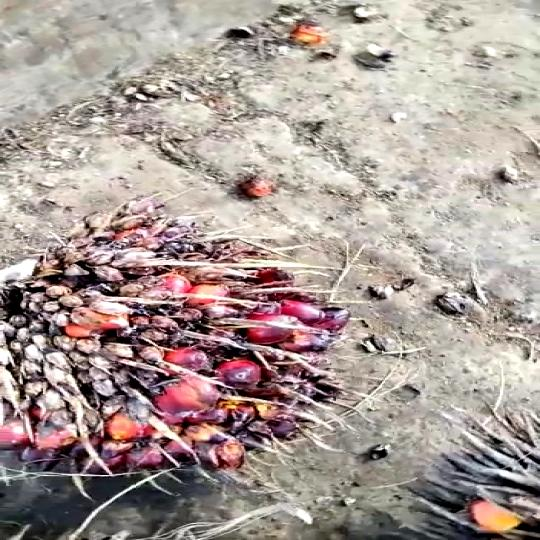masak: (0, 200, 348, 479)
